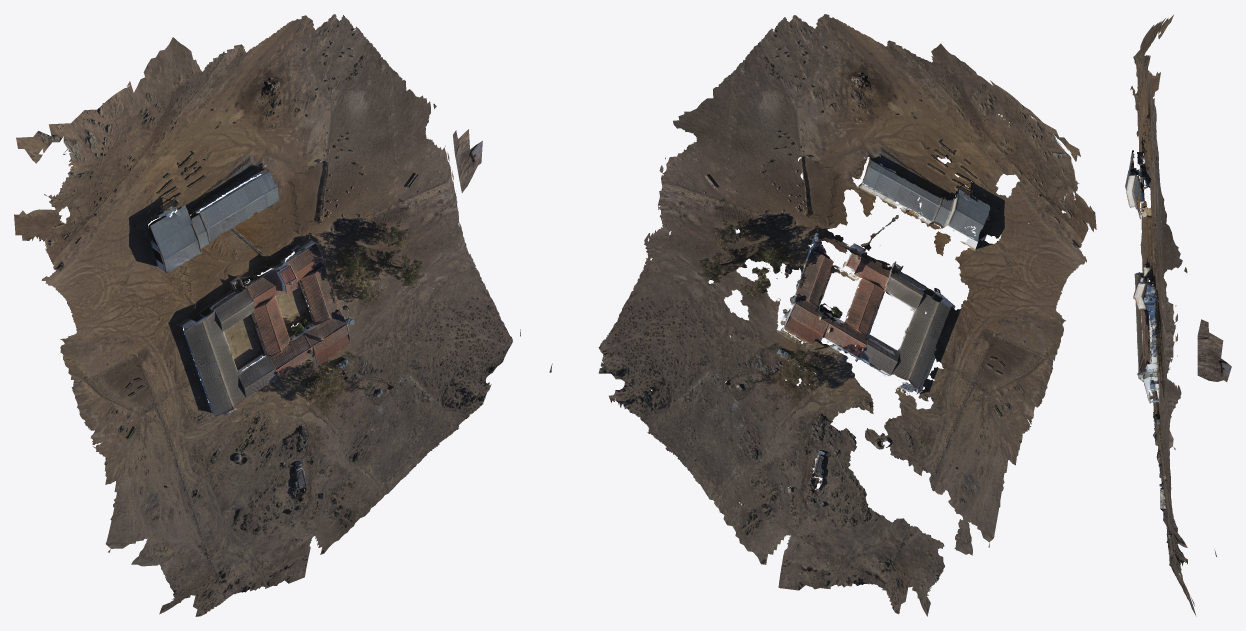
The model's file is las_yuntas.glb.
3 views of the same model, side by side, from view 1: azimuth 30°, elevation 25°; view 2: azimuth 150°, elevation 25°; view 3: azimuth 270°, elevation 25° (orthographic). The views are drawn at different scales.
Bounding box in the file's own units: 181 × 191 × 34.45.
Materials: 12 (12 with a texture image).
